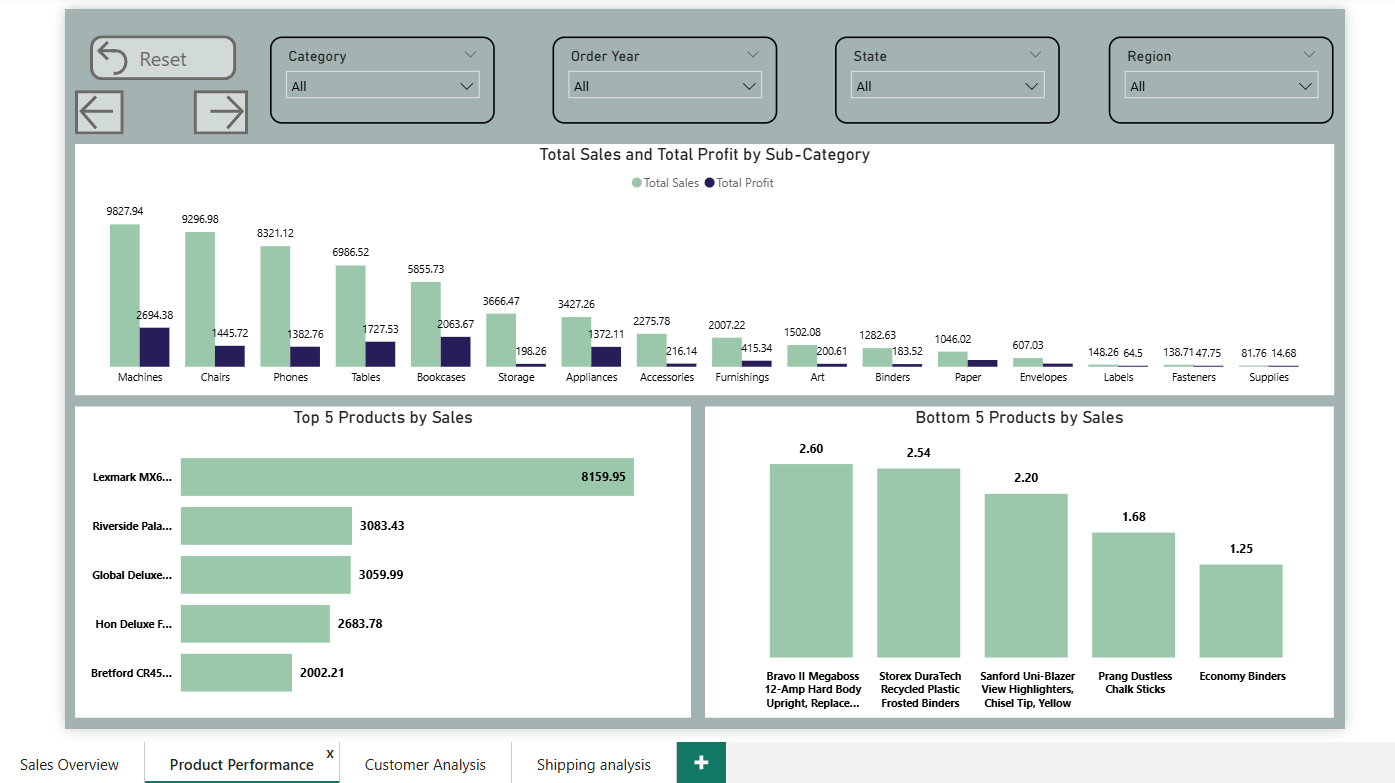

The dashboard page shown, as its layout file describes it:
{"tool":"powerbi","page":{"name":"Product Performance","canvas":[1280,720],"ordinal":1},"visuals":[{"type":"slicer","fields":{"Values":["Superstore_India.Category"]},"box":[205,27.5,225,87.5],"z":0},{"type":"slicer","fields":{"Values":["Superstore_India.Order Year"]},"box":[487.5,27.5,225,87.5],"z":1000},{"type":"slicer","fields":{"Values":["Superstore_India.State"]},"box":[770,27.5,225,87.5],"z":2000},{"type":"slicer","fields":{"Values":["Superstore_India.Region"]},"box":[1043.8,27.5,225,87.5],"z":3000},{"type":"clusteredColumnChart","fields":{"Category":["Superstore_India.Sub-Category"],"Y":["Superstore_India.Total Sales","Superstore_India.Total Profit"]},"box":[9.7,135.1,1259.5,250.9],"z":4000},{"type":"clusteredBarChart","title":"Top 5  Products by Sales","fields":{"Category":["Superstore_India.Product Name"],"Y":["Superstore_India.Total Sales"]},"box":[10,397.5,616.2,311.2],"z":5000},{"type":"lineStackedColumnComboChart","title":"Bottom 5 Products by Sales","fields":{"Category":["Superstore_India.Product Name"],"Y":["Superstore_India.Total Sales"]},"box":[640,397.5,628.8,311.2],"z":6000},{"type":"actionButton","box":[25,26.2,146.2,45],"z":7000},{"type":"actionButton","box":[10,81.4,48.6,44.3],"z":8000},{"type":"actionButton","box":[128.6,81.4,54.3,44.3],"z":9000}]}

Visuals, with their boxes in screenshot pixels (x1, y1, x2, y2), scaled from the page's 1280x720 canvas onto the 1395x783 screenshot:
slicer - Superstore_India.Category: bbox(223, 30, 469, 125)
slicer - Superstore_India.Order Year: bbox(531, 30, 777, 125)
slicer - Superstore_India.State: bbox(839, 30, 1084, 125)
slicer - Superstore_India.Region: bbox(1138, 30, 1383, 125)
clusteredColumnChart - Superstore_India.Sub-Category x Superstore_India.Total Sales: bbox(11, 147, 1383, 420)
"Top 5  Products by Sales" clusteredBarChart: bbox(11, 432, 682, 771)
"Bottom 5 Products by Sales" lineStackedColumnComboChart: bbox(698, 432, 1383, 771)
actionButton: bbox(27, 28, 187, 77)
actionButton: bbox(11, 89, 64, 137)
actionButton: bbox(140, 89, 199, 137)
